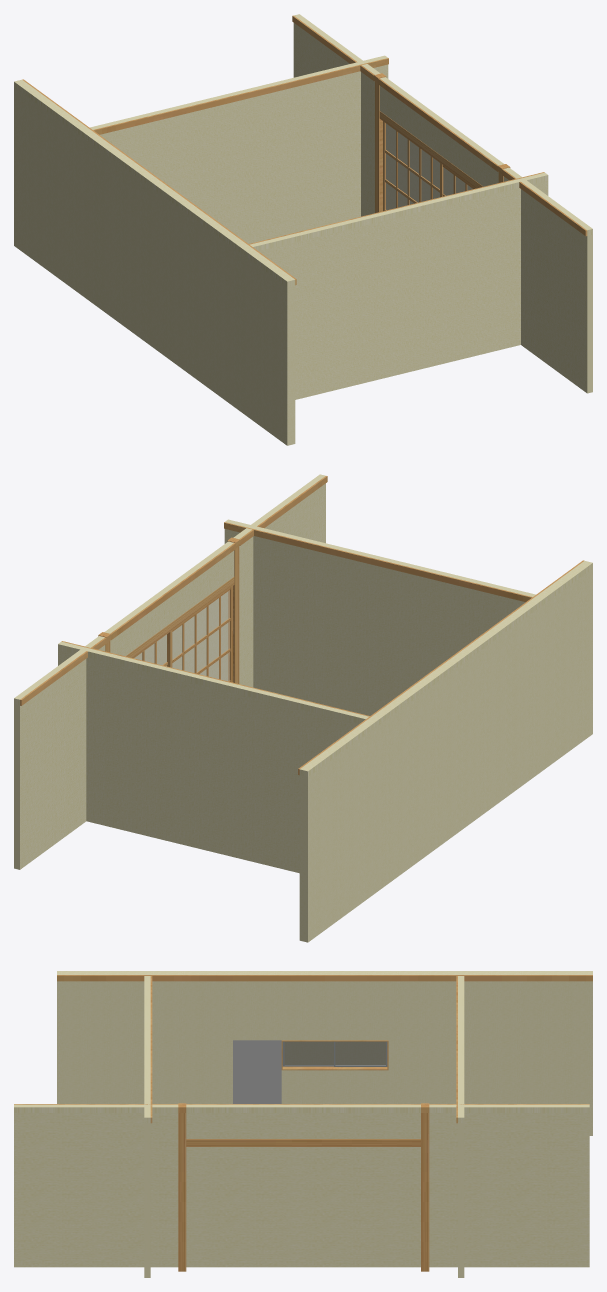
Rendered from wall.fbx.
3 renders of one model, top to bottom at view 1: azimuth 30°, elevation 25°; view 2: azimuth 150°, elevation 25°; view 3: azimuth 270°, elevation 25°, orthographic. The views are drawn at different scales.
Parts seen in each view (by area): view 1: wall1, wall5, wall4, wall8; view 2: wall1, wall4, wall5, wall8; view 3: wall8, wall1, wall4, wall5.
Part boxes in pixels (x1,y1,x2,y2): wall1: (14, 79, 296, 445); wall5: (249, 172, 548, 399); wall4: (90, 55, 388, 243); wall8: (292, 14, 592, 393); wall1: (298, 560, 592, 942); wall4: (58, 641, 369, 873); wall5: (224, 519, 535, 715); wall8: (14, 474, 327, 869); wall8: (14, 1103, 589, 1271); wall1: (57, 971, 592, 1135); wall4: (456, 976, 464, 1277); wall5: (144, 976, 152, 1277).
Bounding box in the file's own units: 33.37 × 17.49 × 55.87.
Materials: 7 (4 with a texture image).
